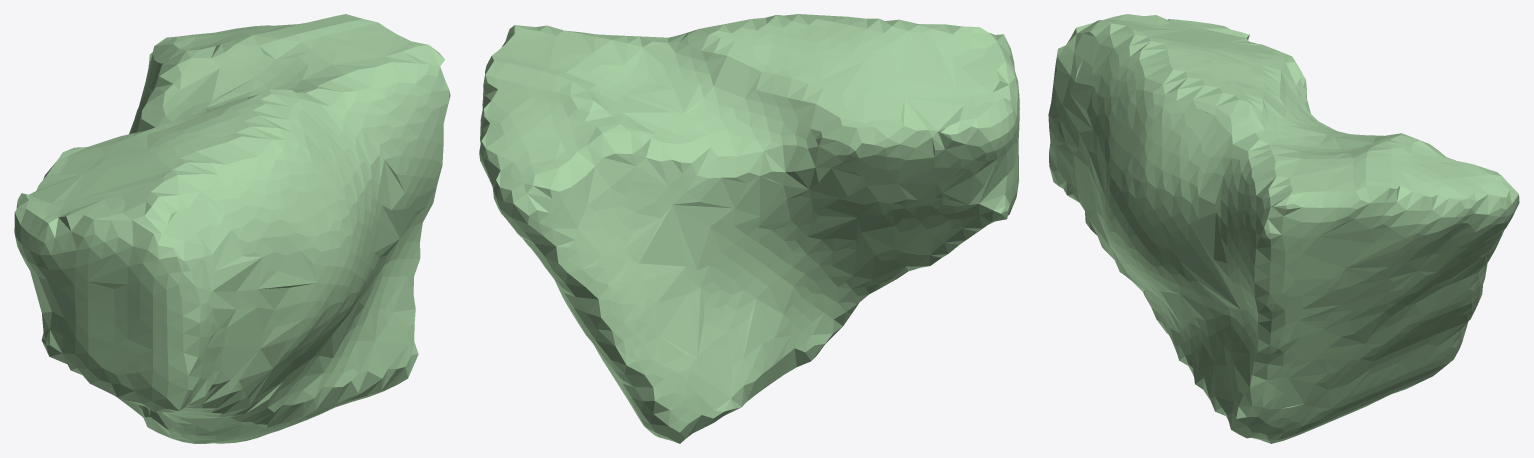
File: Model_10140_LH__Temporoparietal_transitional_area_(TPt).obj
The picture shows the model from 3 angles, left to right: view 1: azimuth 30°, elevation 25°; view 2: azimuth 150°, elevation 25°; view 3: azimuth 270°, elevation 25°; orthographic projection. The views are drawn at different scales.
Size of the model in its own units: 2.71 by 1.92 by 2.69.
